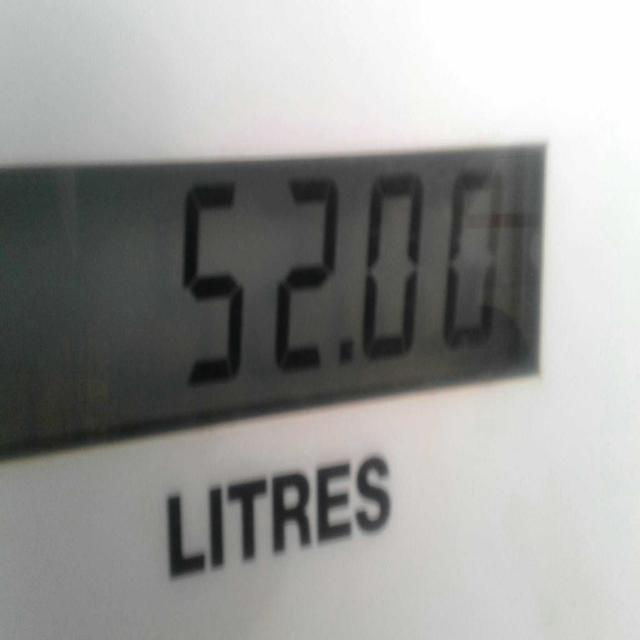.: (323, 322, 363, 389)
0: (354, 172, 434, 376), (436, 156, 511, 356)
2: (264, 163, 344, 400)
5: (165, 172, 254, 396)
